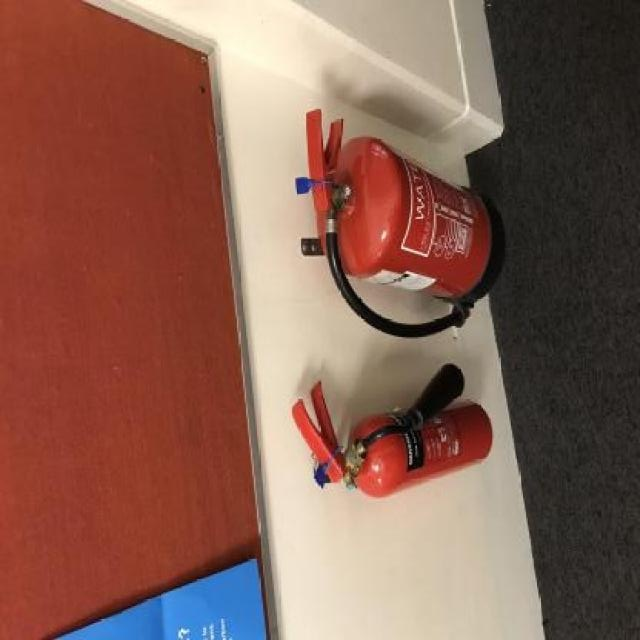fire extinguisher: (295, 108, 503, 340), (292, 360, 493, 500)
